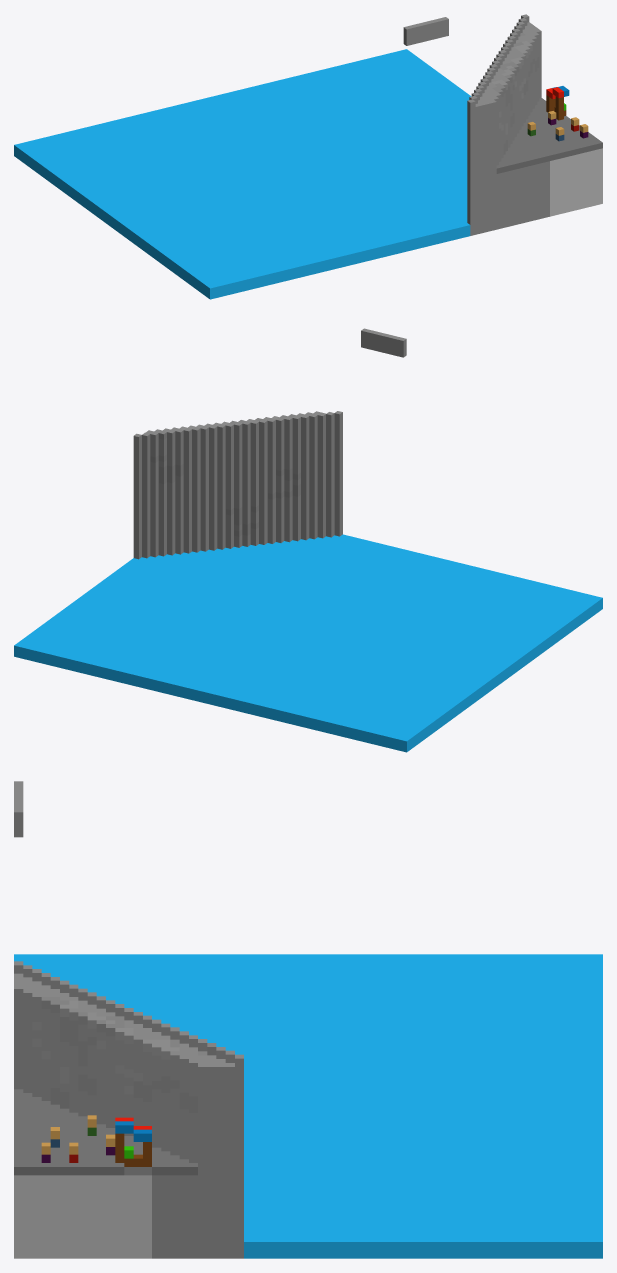
File: castle-2.obj
3 views of the same model, one above another, from view 1: azimuth 30°, elevation 25°; view 2: azimuth 150°, elevation 25°; view 3: azimuth 270°, elevation 25° (orthographic). The views are drawn at different scales.
Bounding box in the file's own units: 7.4 × 4 × 6.4.
Materials: 1 (1 with a texture image).
